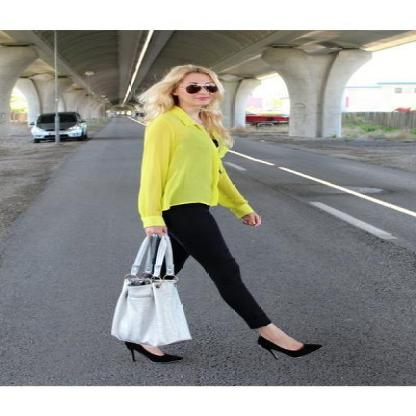bag: (111, 226, 186, 345)
pants: (160, 202, 270, 328)
shirt: (138, 108, 253, 227)
shoe: (125, 336, 321, 363)
sunglass: (188, 84, 218, 93)
